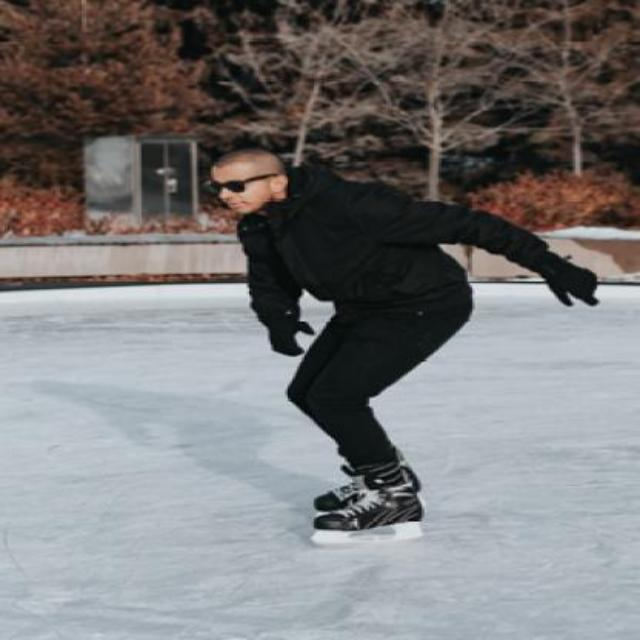glasses: (202, 172, 278, 190)
